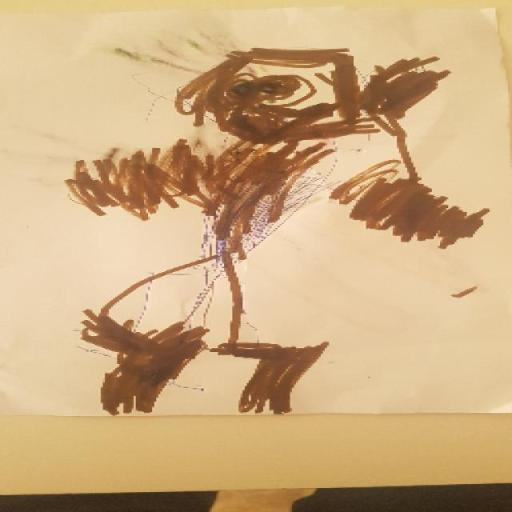person: (66, 22, 471, 435)
